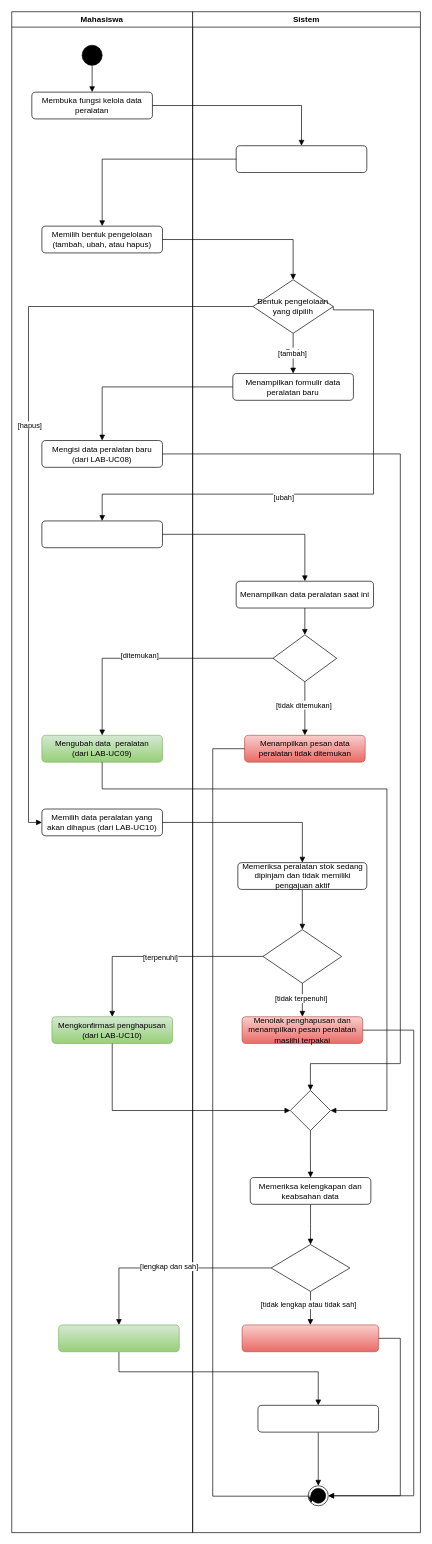
This 432x1544 diagram has some shape labels left out. Each missing label, with the centre of its shape:
Data lengkap dan sah?: point 310,1267
Memilih data peralatan yang akan diubah (dari LAB-UC09): point 101,534
Menampilkan daftar data peralatan: point 301,159
Menolak penyimpanan dan penampilkan pesan kesalahan data: point 310,1338
Menyimpan perubahan: point 118,1338
Menyimpan perubahan dan menampilkan konfirmasi: point 318,1418
Peralatan tersedia?: point 304,658
syarat penghapusan terpenuhi?: point 302,956
